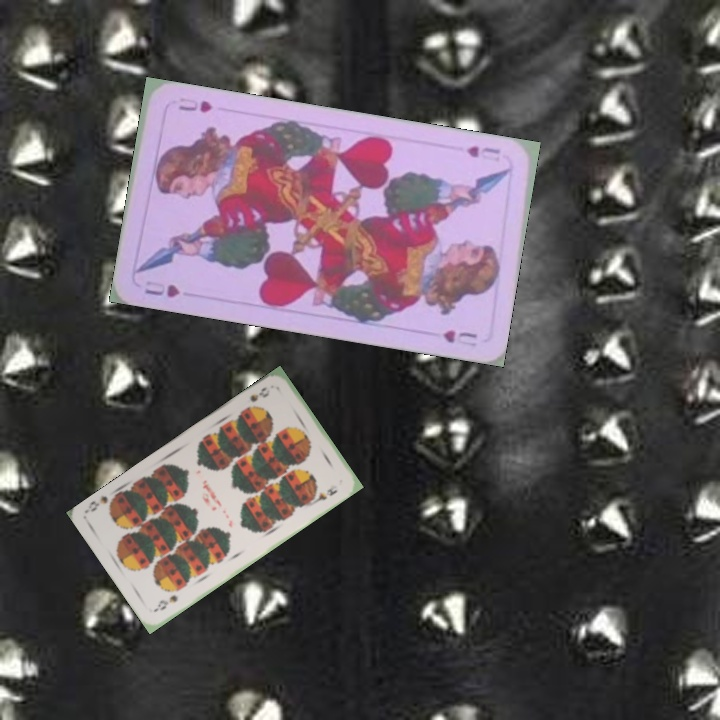HU: (140, 276, 182, 300), (463, 142, 503, 164)
S9: (242, 383, 273, 413), (151, 591, 180, 614)
